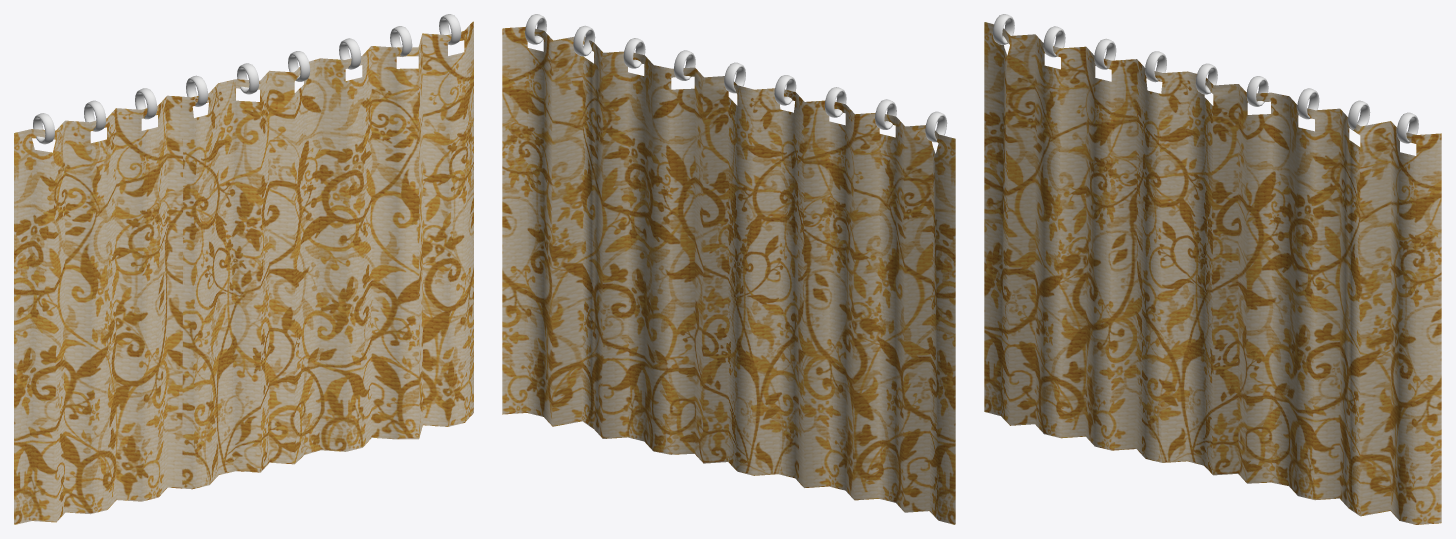
File: open_curtains.fbx
The picture shows the model from 3 angles, left to right: view 1: azimuth 30°, elevation 25°; view 2: azimuth 150°, elevation 25°; view 3: azimuth 330°, elevation 25°; orthographic projection.
Parts seen in each view (by area): view 1: cloth, cloth1; view 2: cloth1, cloth, pTorus8; view 3: cloth, cloth1.
Part boxes in pixels (<box>): cloth: <box>14,22,473,524</box>; cloth1: <box>14,21,473,524</box>; cloth1: <box>502,27,954,524</box>; cloth: <box>503,26,955,524</box>; pTorus8: <box>573,25,595,56</box>; cloth: <box>984,22,1441,524</box>; cloth1: <box>985,22,1441,522</box>.
Size of the model in its own units: 24.48 by 20.79 by 1.46.
Materials: 2 (1 with a texture image).
